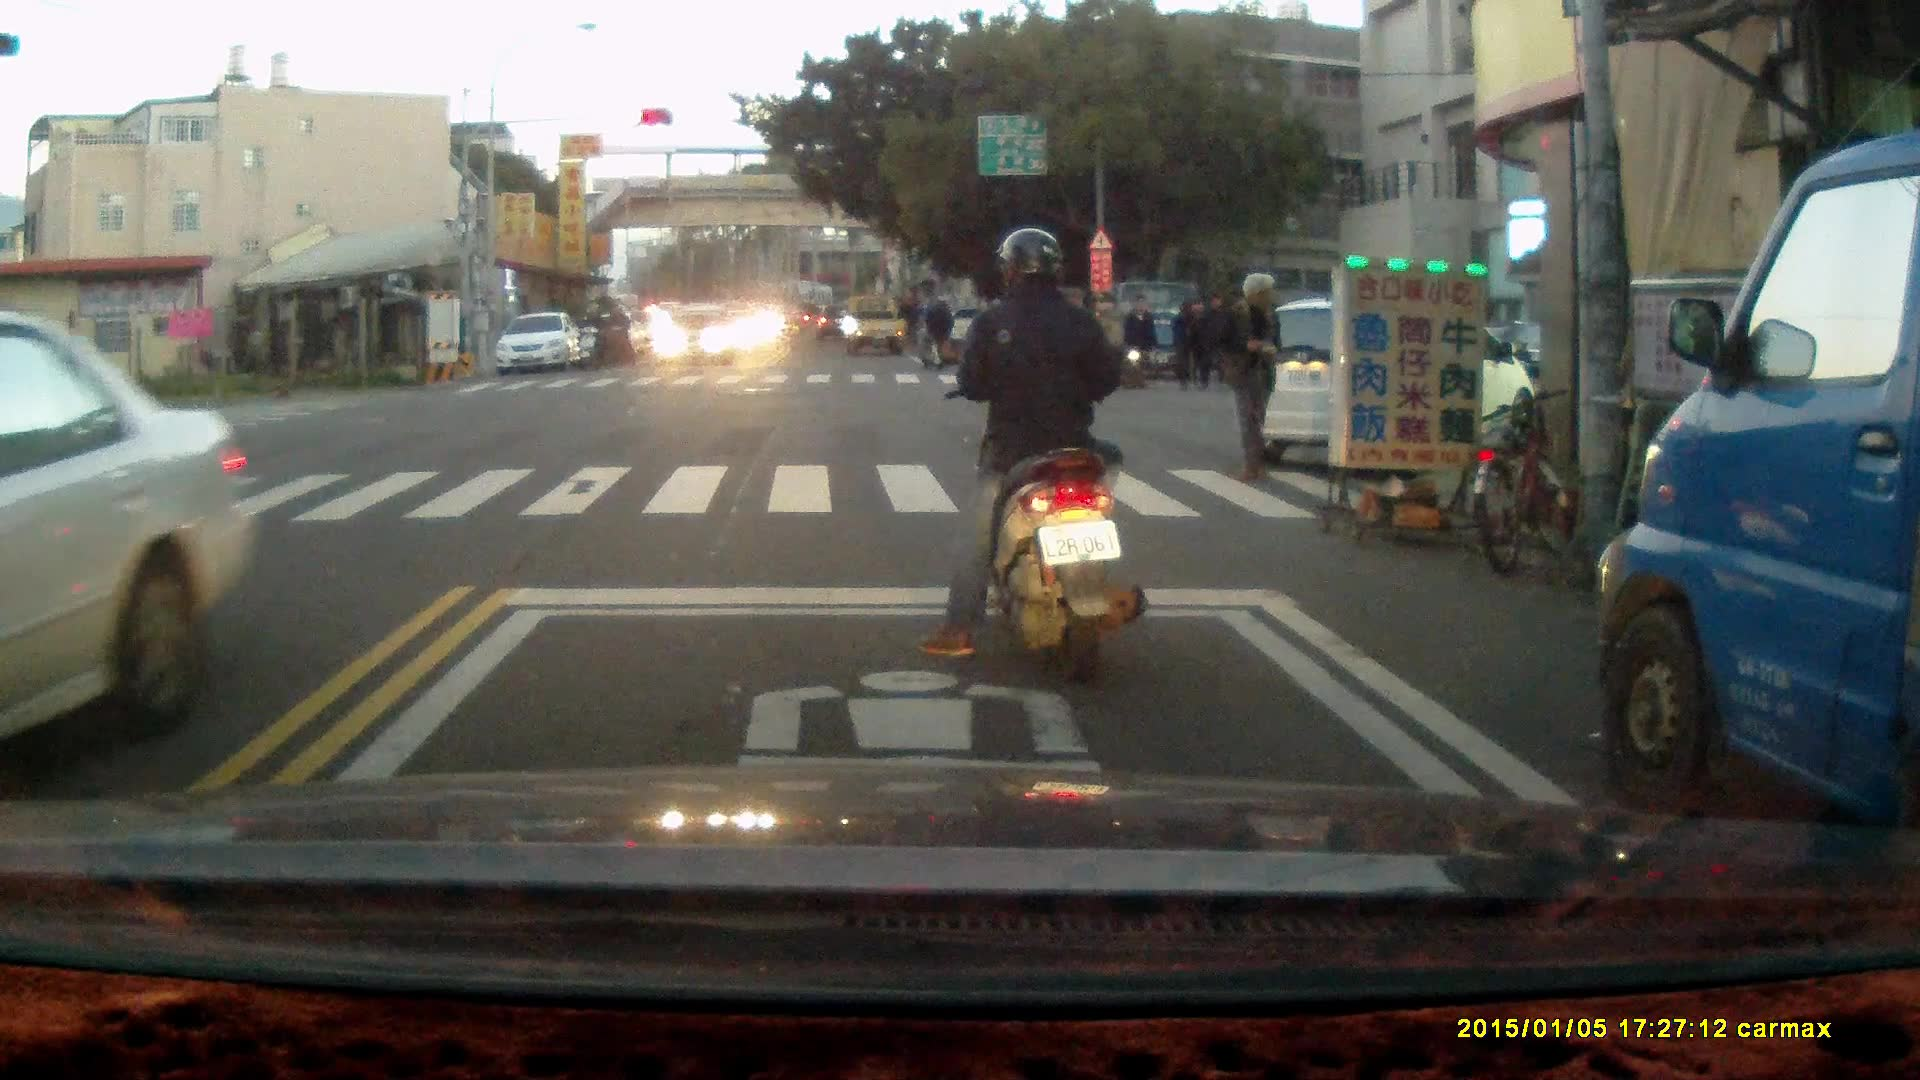pedestrian: (1213, 272, 1286, 482), (1119, 291, 1160, 391), (1169, 292, 1203, 391)
rider: (918, 224, 1149, 686), (915, 287, 957, 368), (577, 301, 612, 372), (595, 300, 631, 367)
vehicle: (1596, 120, 1920, 901), (1, 333, 253, 786), (1236, 303, 1533, 462), (651, 300, 742, 369), (493, 311, 584, 378), (841, 295, 906, 358)
